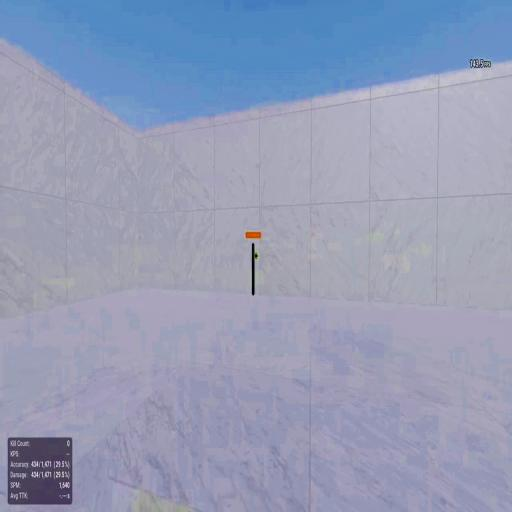Crosshair: (253, 252, 259, 260)
Target: (252, 244, 255, 294)
